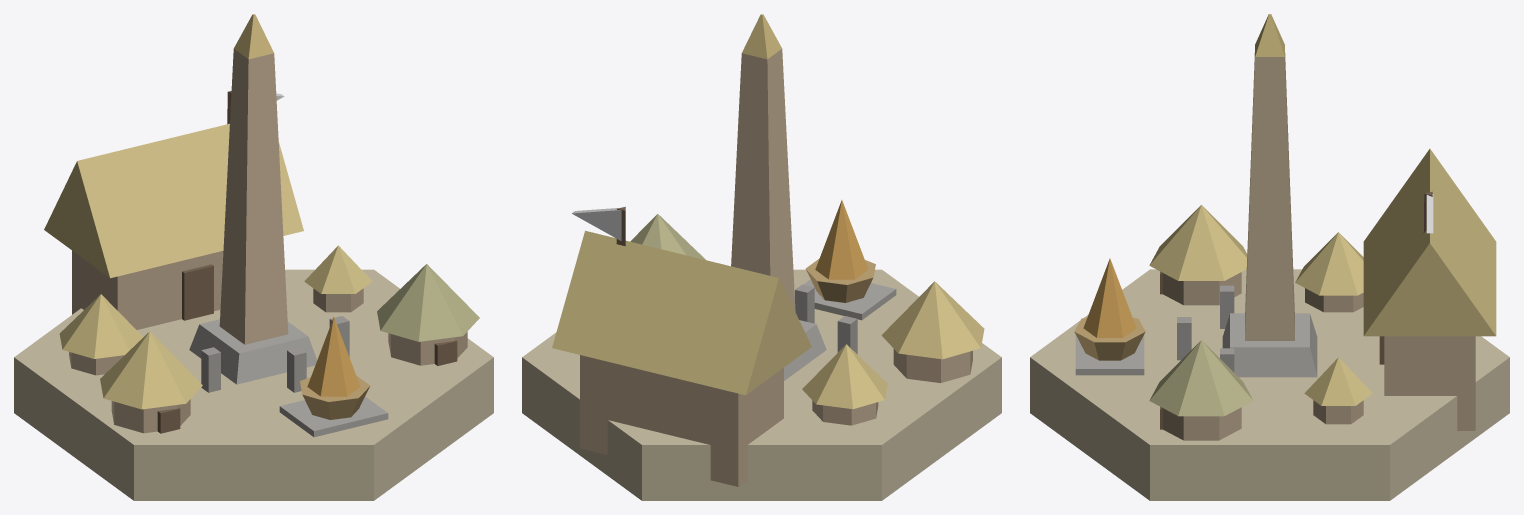
Rendered from center-ancient.glb.
The picture shows the model from 3 angles, left to right: view 1: azimuth 30°, elevation 25°; view 2: azimuth 150°, elevation 25°; view 3: azimuth 270°, elevation 25°; orthographic projection.
Visible parts, largest first — view 1: LOD0; view 2: LOD0; view 3: LOD0.
Boxes of the visible parts, <box> form: LOD0: <box>14,14,493,500</box>; LOD0: <box>522,14,1001,500</box>; LOD0: <box>1030,14,1509,500</box>.
Size of what is drawn, in the model's own units: 0.369 by 0.385 by 0.42.
